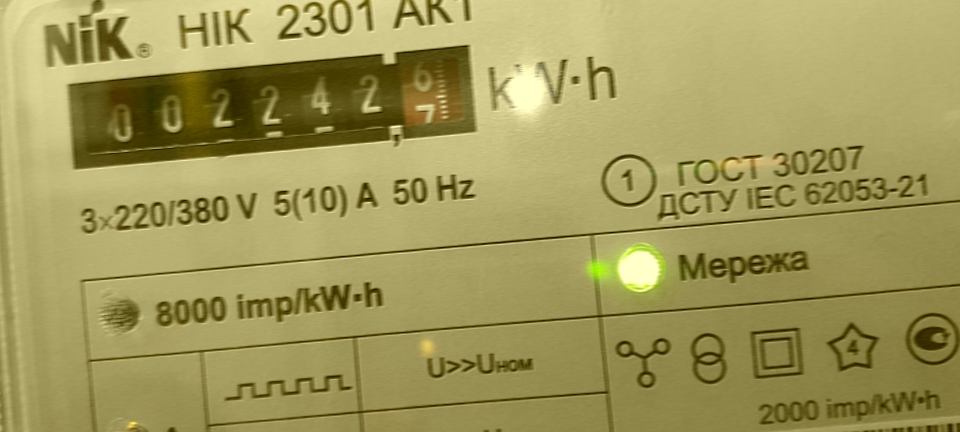0: (158, 91, 186, 135), (209, 86, 236, 130), (110, 99, 135, 145)
2: (356, 71, 384, 116), (258, 82, 285, 127)
4: (307, 73, 333, 118)
6: (410, 59, 436, 94)
7: (413, 101, 438, 125)
screen: (56, 33, 495, 185)
